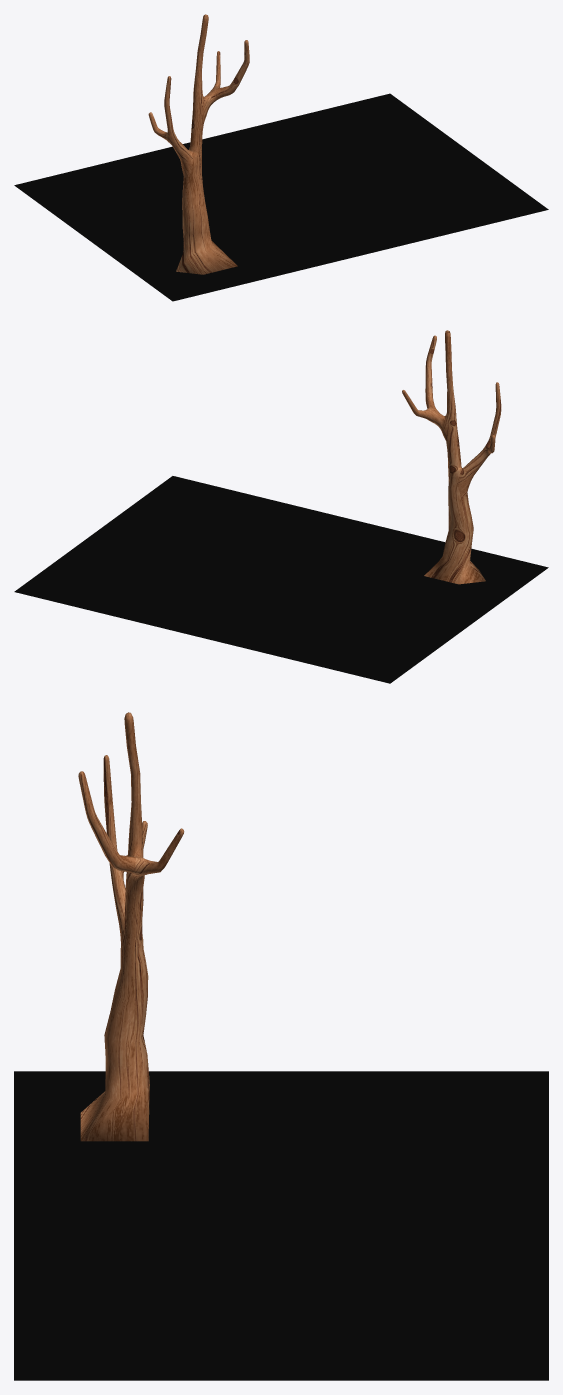
Rendered from SM_Env_TreeDeath1.fbx.
3 renders of one model, top to bottom at view 1: azimuth 30°, elevation 25°; view 2: azimuth 150°, elevation 25°; view 3: azimuth 270°, elevation 25°, orthographic. The views are drawn at different scales.
Visible parts, largest first — view 1: SM_Env_TreeDeath1; view 2: SM_Env_TreeDeath1; view 3: SM_Env_TreeDeath1.
Part boxes in pixels (x1,y1,x2,y2): SM_Env_TreeDeath1: [14, 14, 548, 301]; SM_Env_TreeDeath1: [14, 330, 548, 683]; SM_Env_TreeDeath1: [14, 712, 548, 1380].
Bounding box in the file's own units: 452 × 283 × 330.
